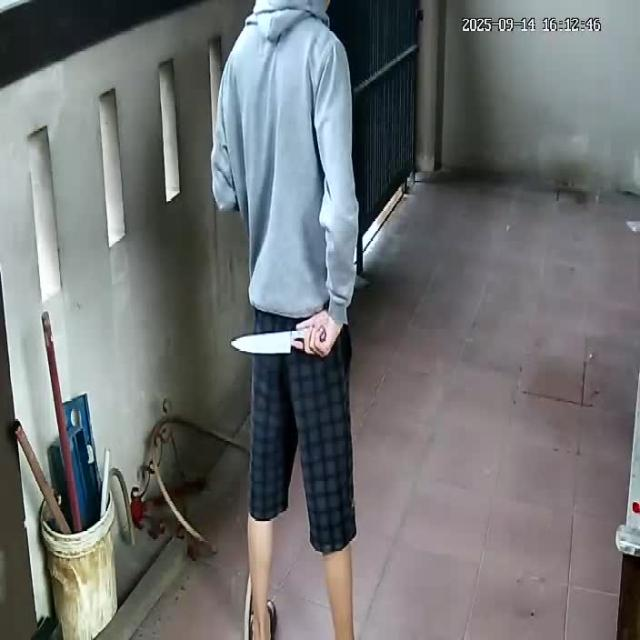senjata_tajam: (230, 329, 296, 360)
